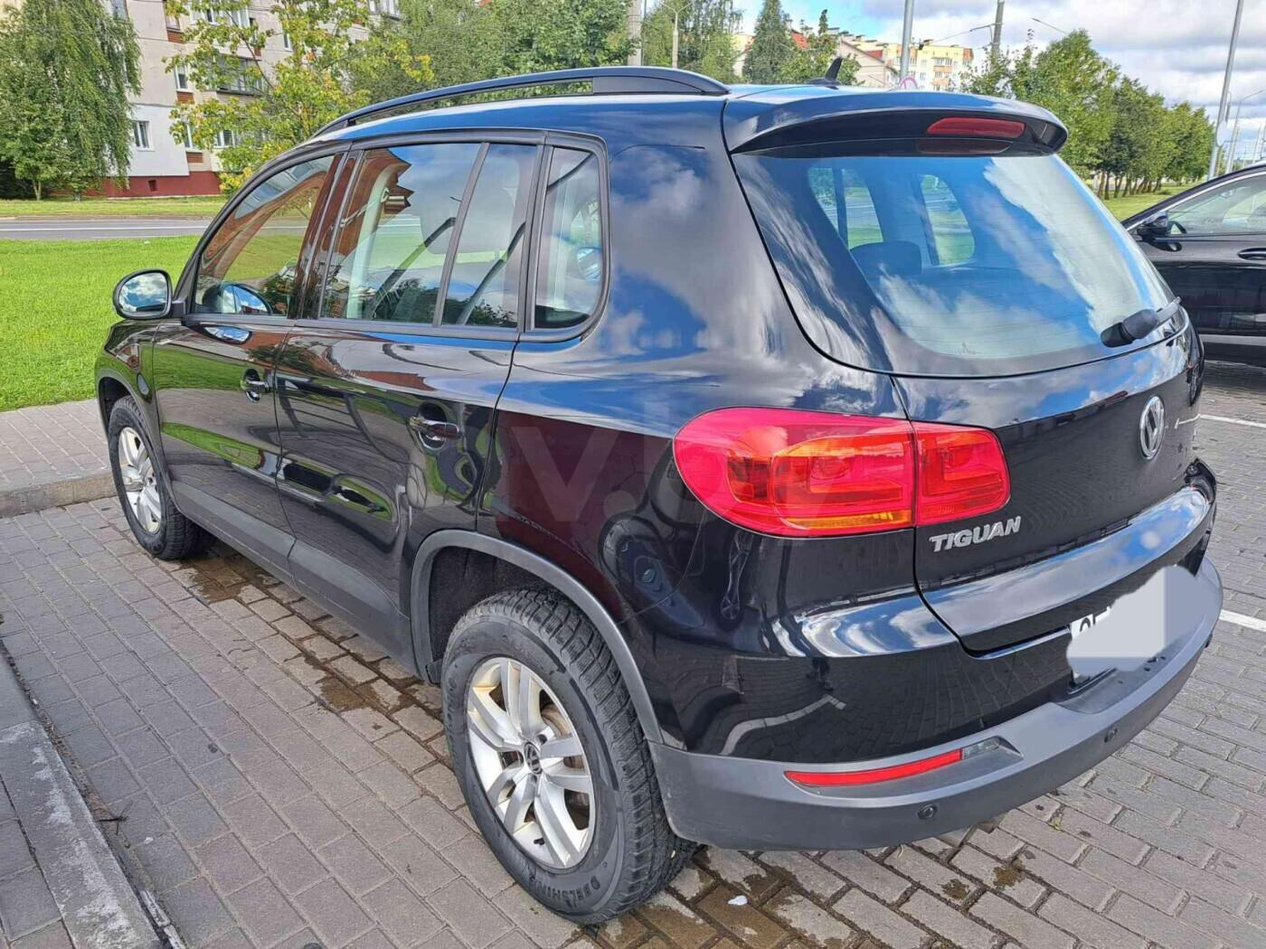Tiguan_2011-2018: (90, 75, 1234, 915)
